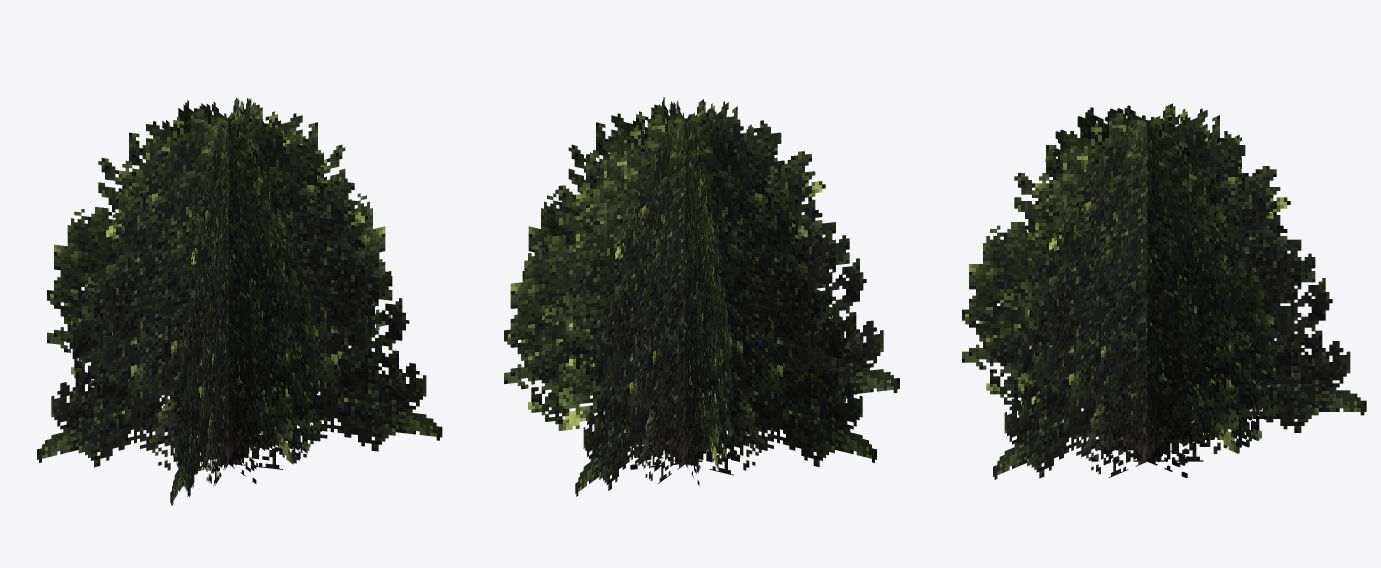
File: bush06.glb
3 renders of one model, left to right at view 1: azimuth 30°, elevation 25°; view 2: azimuth 150°, elevation 25°; view 3: azimuth 270°, elevation 25°, orthographic.
Visible parts, largest first — view 1: bush06; view 2: bush06; view 3: bush06.
Part boxes in pixels (bbox=[...]): bush06: bbox=[37, 97, 442, 505]; bush06: bbox=[504, 97, 899, 496]; bush06: bbox=[962, 103, 1366, 479].
Size of the model in its own units: 1.34 by 1.2 by 1.34.
Materials: 1 (1 with a texture image).
